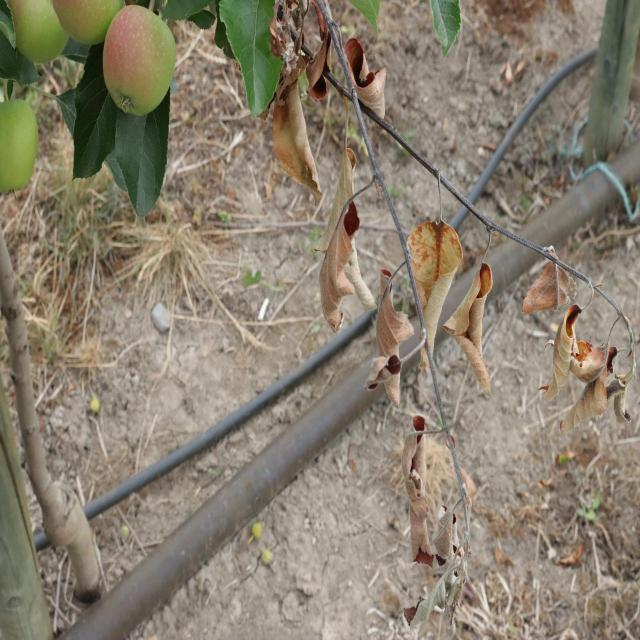-FireBlight-: (266, 1, 634, 629)
